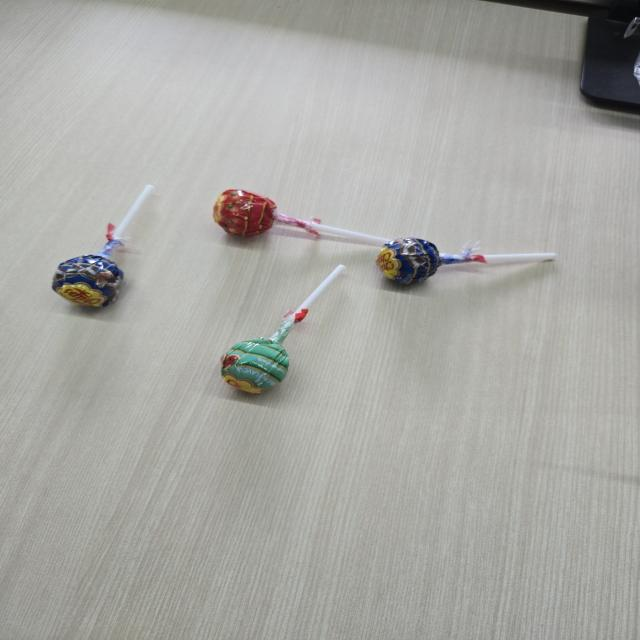lollipop: (215, 262, 350, 402), (52, 181, 162, 315), (210, 184, 393, 250), (377, 232, 556, 294)
